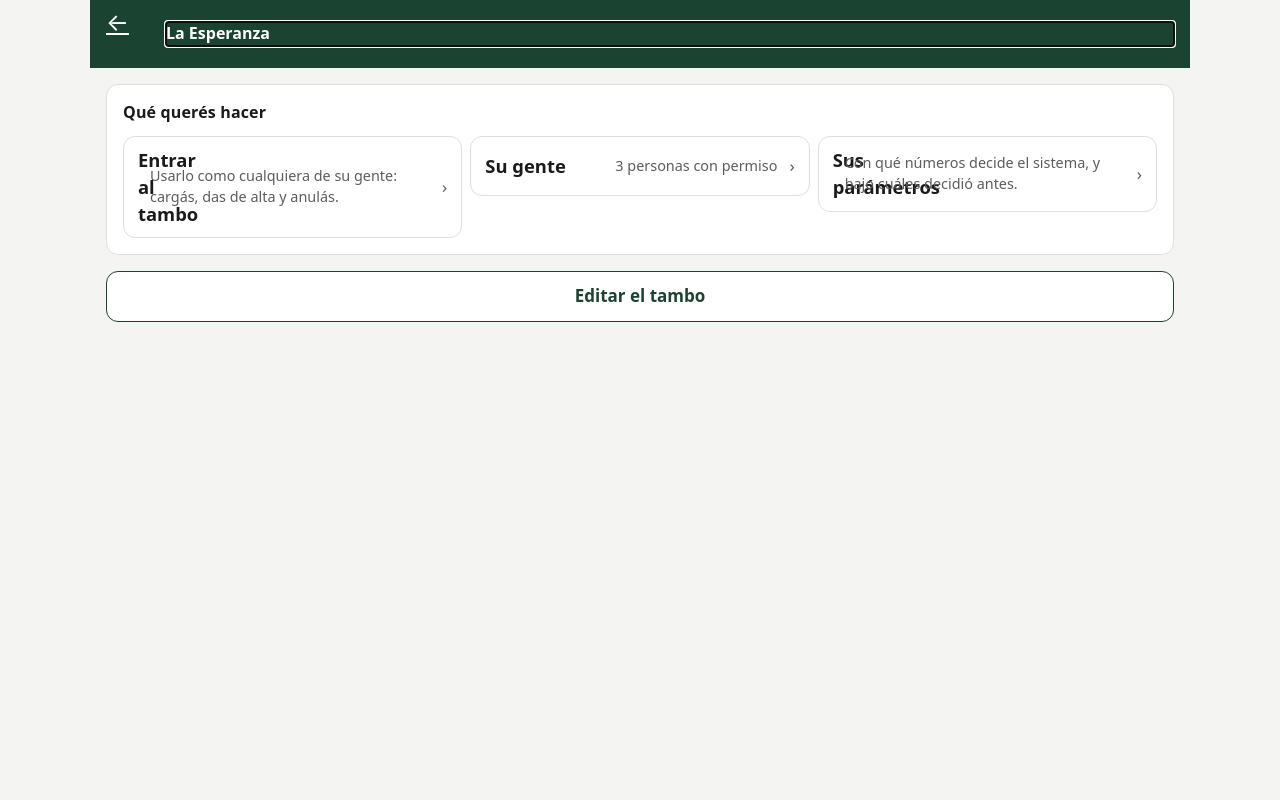
Scenario: el admin, que no tiene permisos y puede todo › y también puede anular
This screenshot has width=1280, height=800.
Click the button named "Entrar al tambo" at (293, 187), box [123,136,462,238]
(page scrolled)
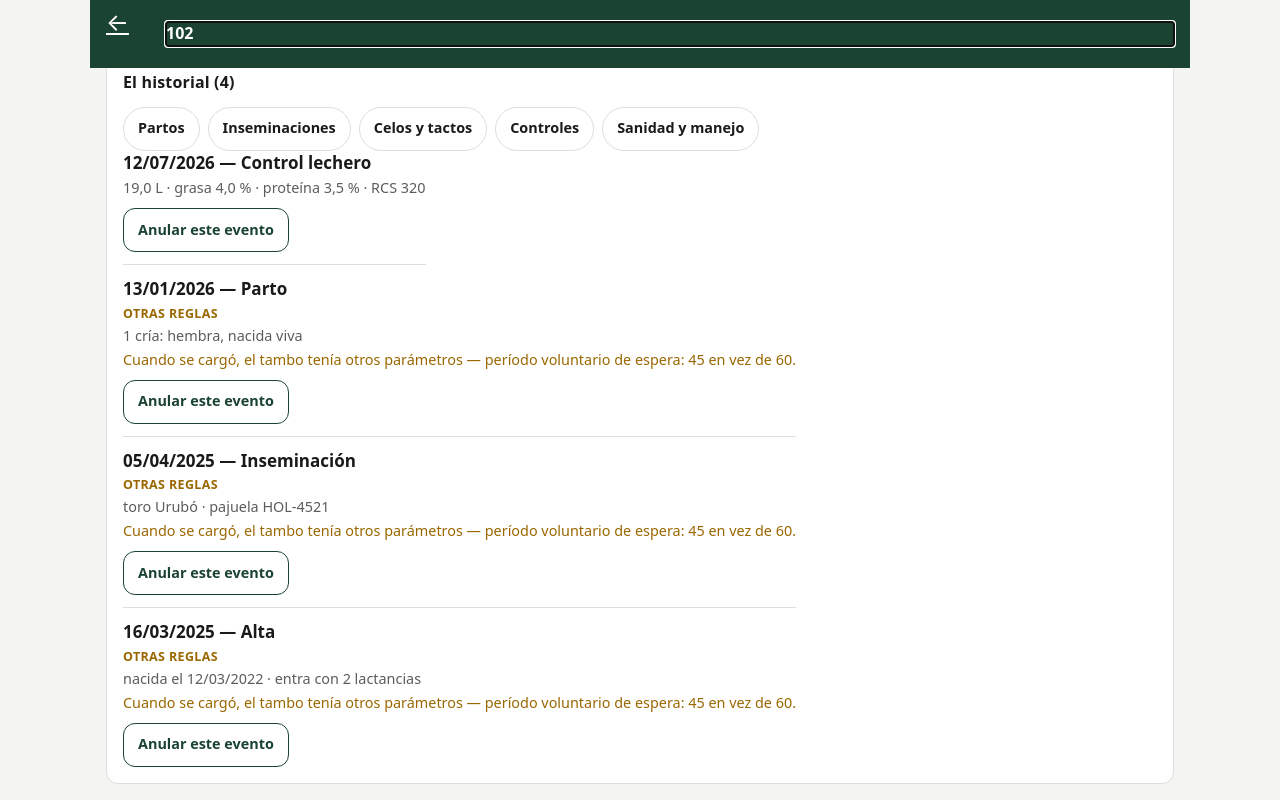
Check: the text "toro Urubó · pajuela HOL-4521" is shown, box [123,497,329,516]
